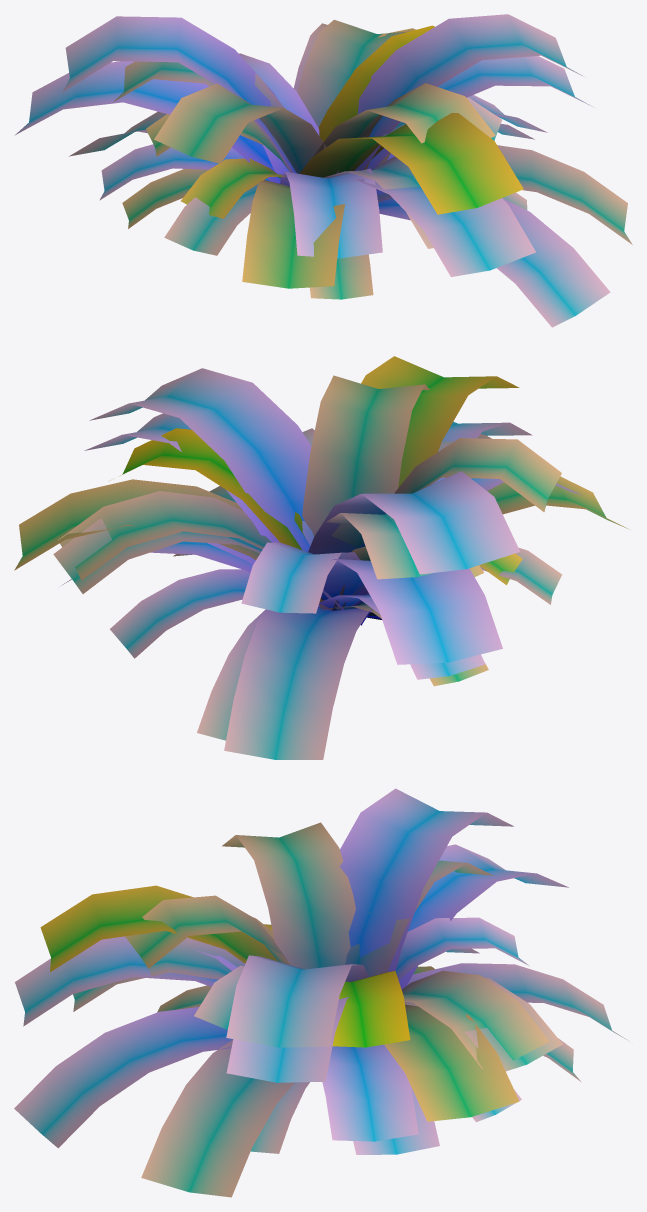
The model's file is fern.glb.
3 views of the same model, one above another, from view 1: azimuth 30°, elevation 25°; view 2: azimuth 150°, elevation 25°; view 3: azimuth 270°, elevation 25° (orthographic). The views are drawn at different scales.
Parts seen in each view (by area): view 1: fern1_lod0, fern0_lod0, fern2_lod0; view 2: fern0_lod0, fern2_lod0, fern1_lod0; view 3: fern2_lod0, fern0_lod0, fern1_lod0.
Part boxes in pixels (box(x1,y1,x2,y2)): fern1_lod0: box(14, 23, 610, 327); fern0_lod0: box(99, 14, 585, 299); fern2_lod0: box(62, 16, 632, 258); fern0_lod0: box(14, 356, 561, 740); fern2_lod0: box(58, 428, 582, 759); fern1_lod0: box(53, 413, 627, 686); fern2_lod0: box(73, 788, 629, 1197); fern0_lod0: box(40, 822, 581, 1122); fern1_lod0: box(14, 844, 568, 1153).
Size of the model in its own units: 1.7 by 0.6767 by 1.83.
